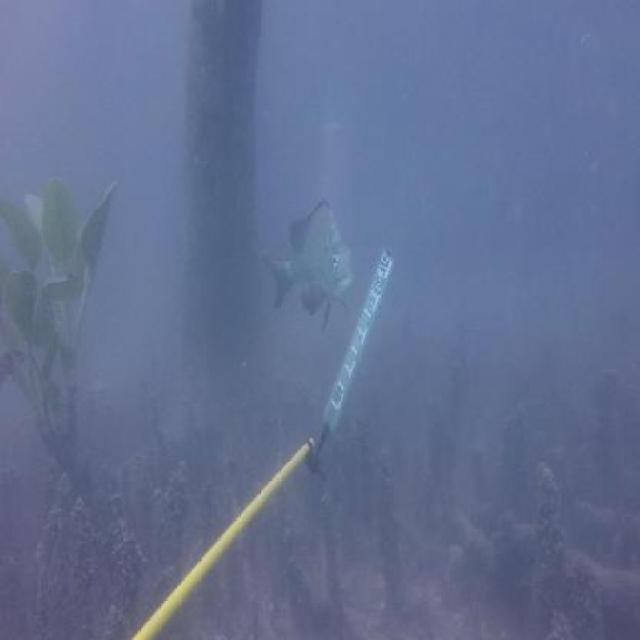acanthopagrus_palmaris: (259, 192, 361, 330)
